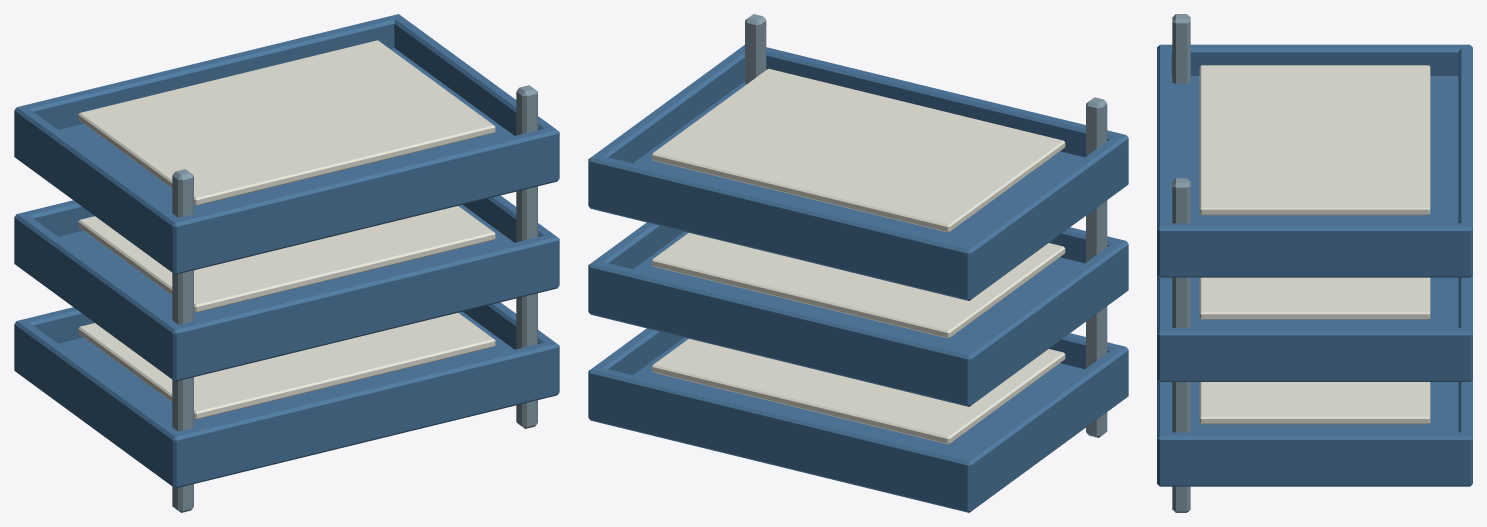
Rendered from three_tier_mail_sorter.glb.
3 views of the same model, side by side, from view 1: azimuth 30°, elevation 25°; view 2: azimuth 150°, elevation 25°; view 3: azimuth 270°, elevation 25° (orthographic). The views are drawn at different scales.
Visible parts, largest first — view 1: paper_tray_wall (×6), paper_sheet (×3), paper_tray_side (×6), paper_tray_floor (×3), tray_post (×2); view 2: paper_sheet (×3), paper_tray_wall (×6), paper_tray_side (×6), paper_tray_floor (×3), tray_post (×2); view 3: paper_sheet (×3), paper_tray_side (×4), paper_tray_floor (×3), paper_tray_wall (×6), tray_post (×2).
Boxes of the visible parts, x1,y1,x2,y2 form: paper_tray_wall (×6): (14, 14, 558, 488); paper_sheet (×3): (78, 40, 495, 419); paper_tray_side (×6): (14, 14, 559, 488); paper_tray_floor (×3): (15, 48, 556, 484); tray_post (×2): (172, 85, 537, 512); paper_sheet (×3): (651, 68, 1065, 444); paper_tray_wall (×6): (589, 47, 1127, 512); paper_tray_side (×6): (588, 45, 1128, 512); paper_tray_floor (×3): (591, 81, 1084, 508); tray_post (×2): (745, 14, 1107, 437); paper_sheet (×3): (1199, 65, 1430, 424); paper_tray_side (×4): (1157, 44, 1472, 486); paper_tray_floor (×3): (1162, 76, 1467, 483); paper_tray_wall (×6): (1157, 44, 1472, 486); tray_post (×2): (1172, 14, 1190, 512).
Bounding box in the file's own units: 0.36 × 0.3 × 0.26.
